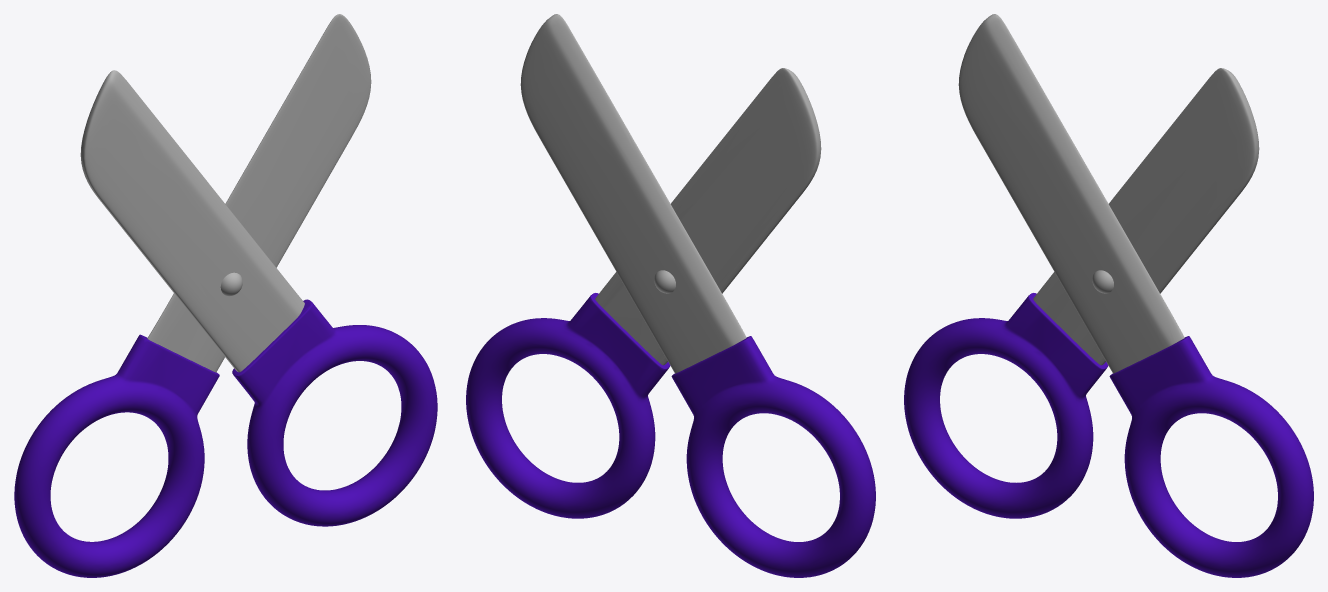
The model's file is scissor.glb.
3 views of the same model, side by side, from view 1: azimuth 30°, elevation 25°; view 2: azimuth 150°, elevation 25°; view 3: azimuth 330°, elevation 25° (orthographic).
Parts seen in each view (by area): view 1: scissor_01.001; view 2: scissor_01.001; view 3: scissor_01.001.
Boxes of the visible parts, <box> form: scissor_01.001: <box>14,14,437,577</box>; scissor_01.001: <box>466,14,875,577</box>; scissor_01.001: <box>904,14,1313,577</box>.
Bounding box in the file's own units: 1.65 × 1.94 × 0.1653.
